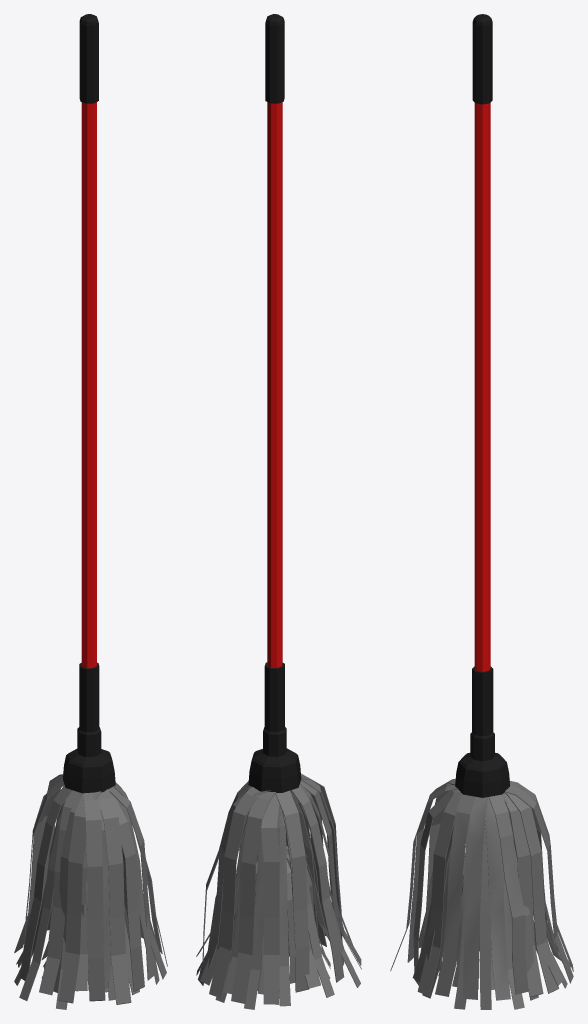
Rendered from Mop.fbx.
3 renders of one model, left to right at view 1: azimuth 30°, elevation 25°; view 2: azimuth 150°, elevation 25°; view 3: azimuth 270°, elevation 25°, orthographic.
Parts seen in each view (by area): view 1: 큐브, 실린더, 실린더.001, 큐브.001; view 2: 큐브, 실린더, 실린더.001, 큐브.001; view 3: 큐브, 실린더, 실린더.001, 큐브.001.
Boxes of the visible parts, x1=… form: 큐브: x1=14, y1=774, x2=167, y2=1009; 실린더: x1=81, y1=102, x2=96, y2=668; 실린더.001: x1=63, y1=14, x2=115, y2=793; 큐브.001: x1=41, y1=881, x2=129, y2=992; 큐브: x1=196, y1=773, x2=361, y2=1009; 실린더: x1=267, y1=102, x2=282, y2=668; 실린더.001: x1=248, y1=14, x2=301, y2=792; 큐브.001: x1=234, y1=846, x2=330, y2=994; 큐브: x1=390, y1=779, x2=573, y2=1009; 실린더: x1=474, y1=103, x2=490, y2=671; 실린더.001: x1=455, y1=14, x2=510, y2=797; 큐브.001: x1=438, y1=853, x2=512, y2=989.
Size of the model in its own units: 115 by 728 by 126.
